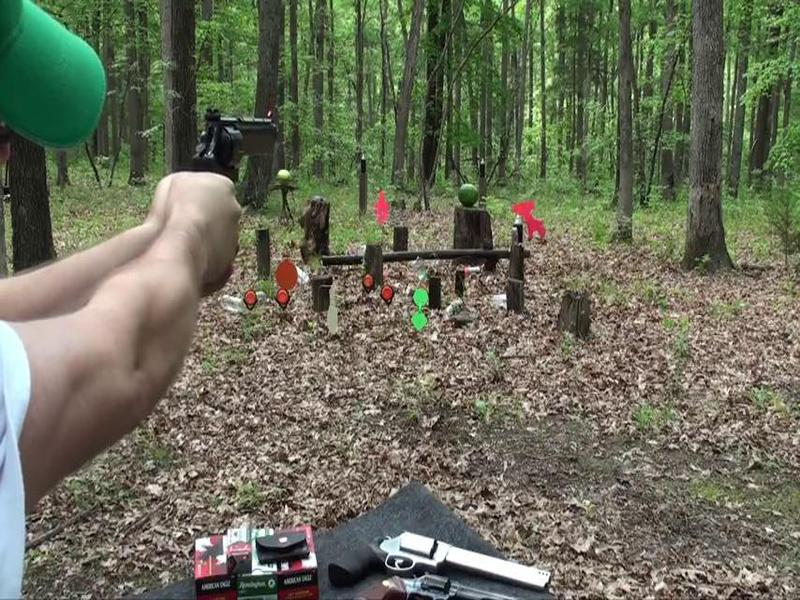Revolver: (183, 100, 293, 204)
